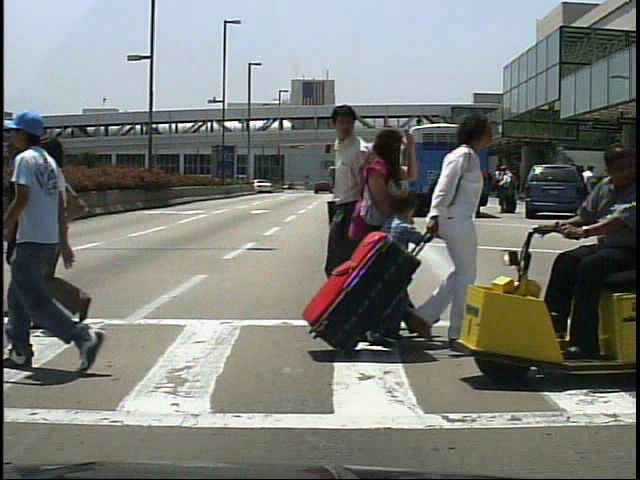person: (13, 105, 121, 388), (321, 101, 415, 349), (408, 108, 499, 359), (550, 151, 640, 361), (351, 123, 416, 355), (23, 134, 88, 330), (380, 184, 425, 318), (582, 163, 602, 218), (498, 166, 516, 219), (498, 164, 517, 214)
